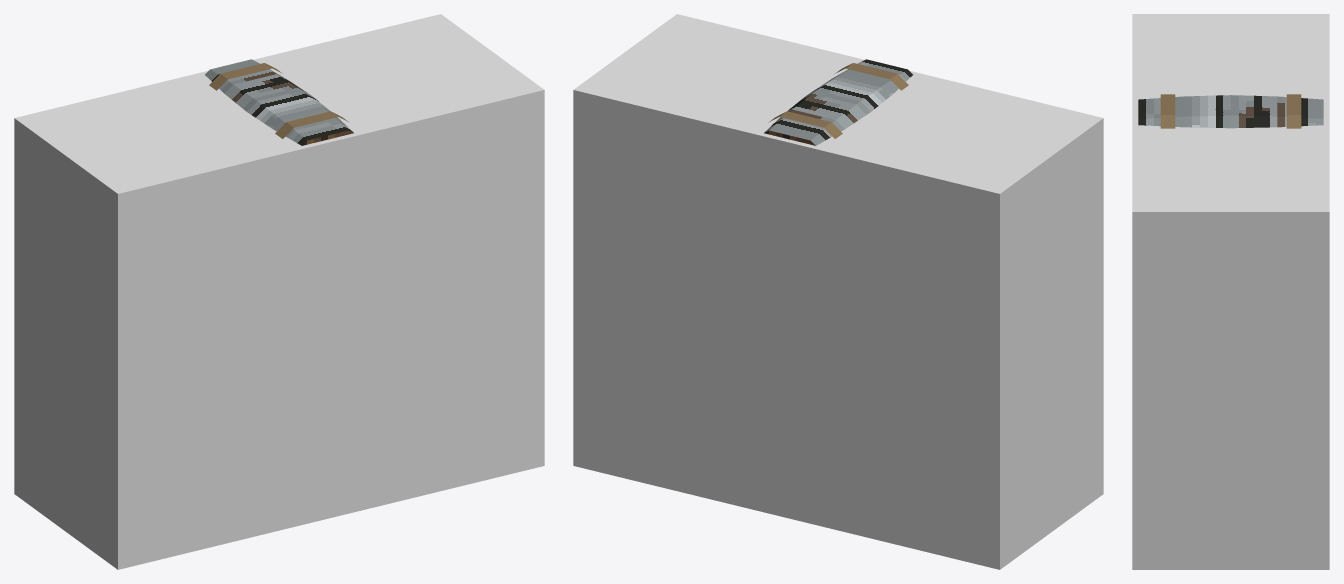
Rendered from JP_Prop_SakeBarrelStack_A.glb.
3 views of the same model, side by side, from view 1: azimuth 30°, elevation 25°; view 2: azimuth 150°, elevation 25°; view 3: azimuth 270°, elevation 25° (orthographic). The views are drawn at different scales.
Parts seen in each view (by area): view 1: COL_JP_Prop_SakeBarrelStack_A, JP_Prop_SakeBarrelStack_A; view 2: COL_JP_Prop_SakeBarrelStack_A, JP_Prop_SakeBarrelStack_A; view 3: COL_JP_Prop_SakeBarrelStack_A, JP_Prop_SakeBarrelStack_A.
Part boxes in pixels (x1,y1,x2,y2): COL_JP_Prop_SakeBarrelStack_A: (14, 14, 544, 569); JP_Prop_SakeBarrelStack_A: (205, 59, 353, 145); COL_JP_Prop_SakeBarrelStack_A: (573, 14, 1103, 569); JP_Prop_SakeBarrelStack_A: (764, 59, 912, 145); COL_JP_Prop_SakeBarrelStack_A: (1132, 14, 1329, 569); JP_Prop_SakeBarrelStack_A: (1138, 94, 1323, 128).
Bounding box in the file's own units: 1.9 × 1.64 × 0.8.
Materials: 3 (3 with a texture image).
